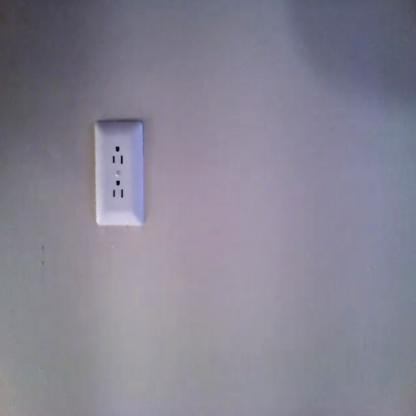OUTLET: (96, 122, 142, 226)
